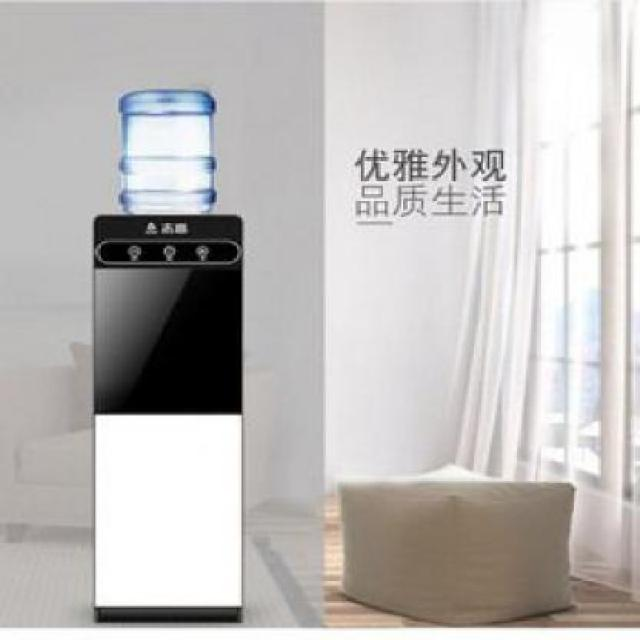cooler: (92, 88, 245, 622)
